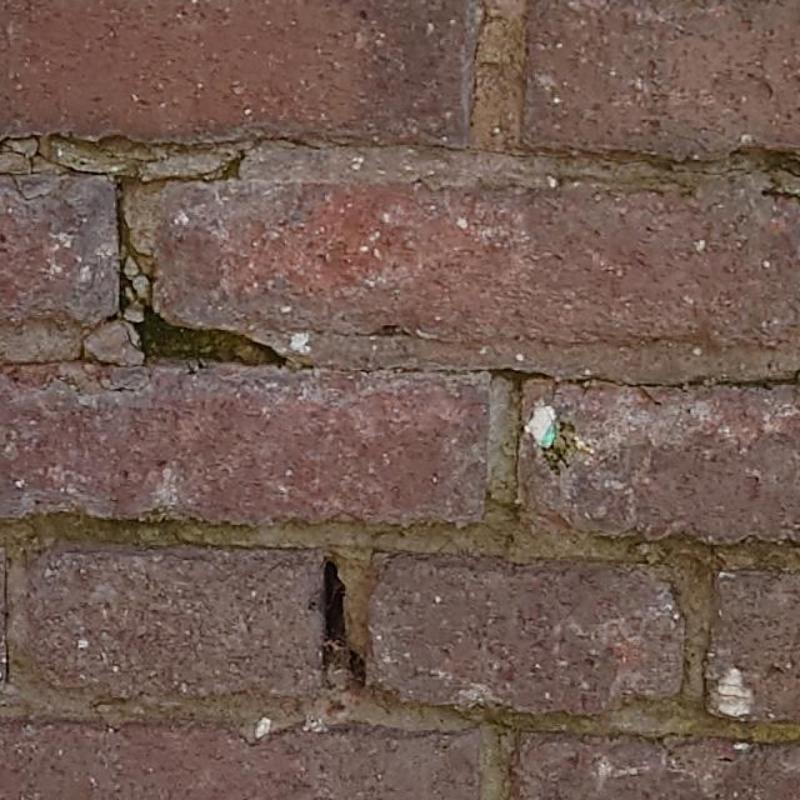crack: (0, 175, 156, 366), (127, 285, 286, 362), (525, 369, 799, 406), (142, 136, 320, 182), (0, 135, 109, 202), (324, 560, 362, 684)
